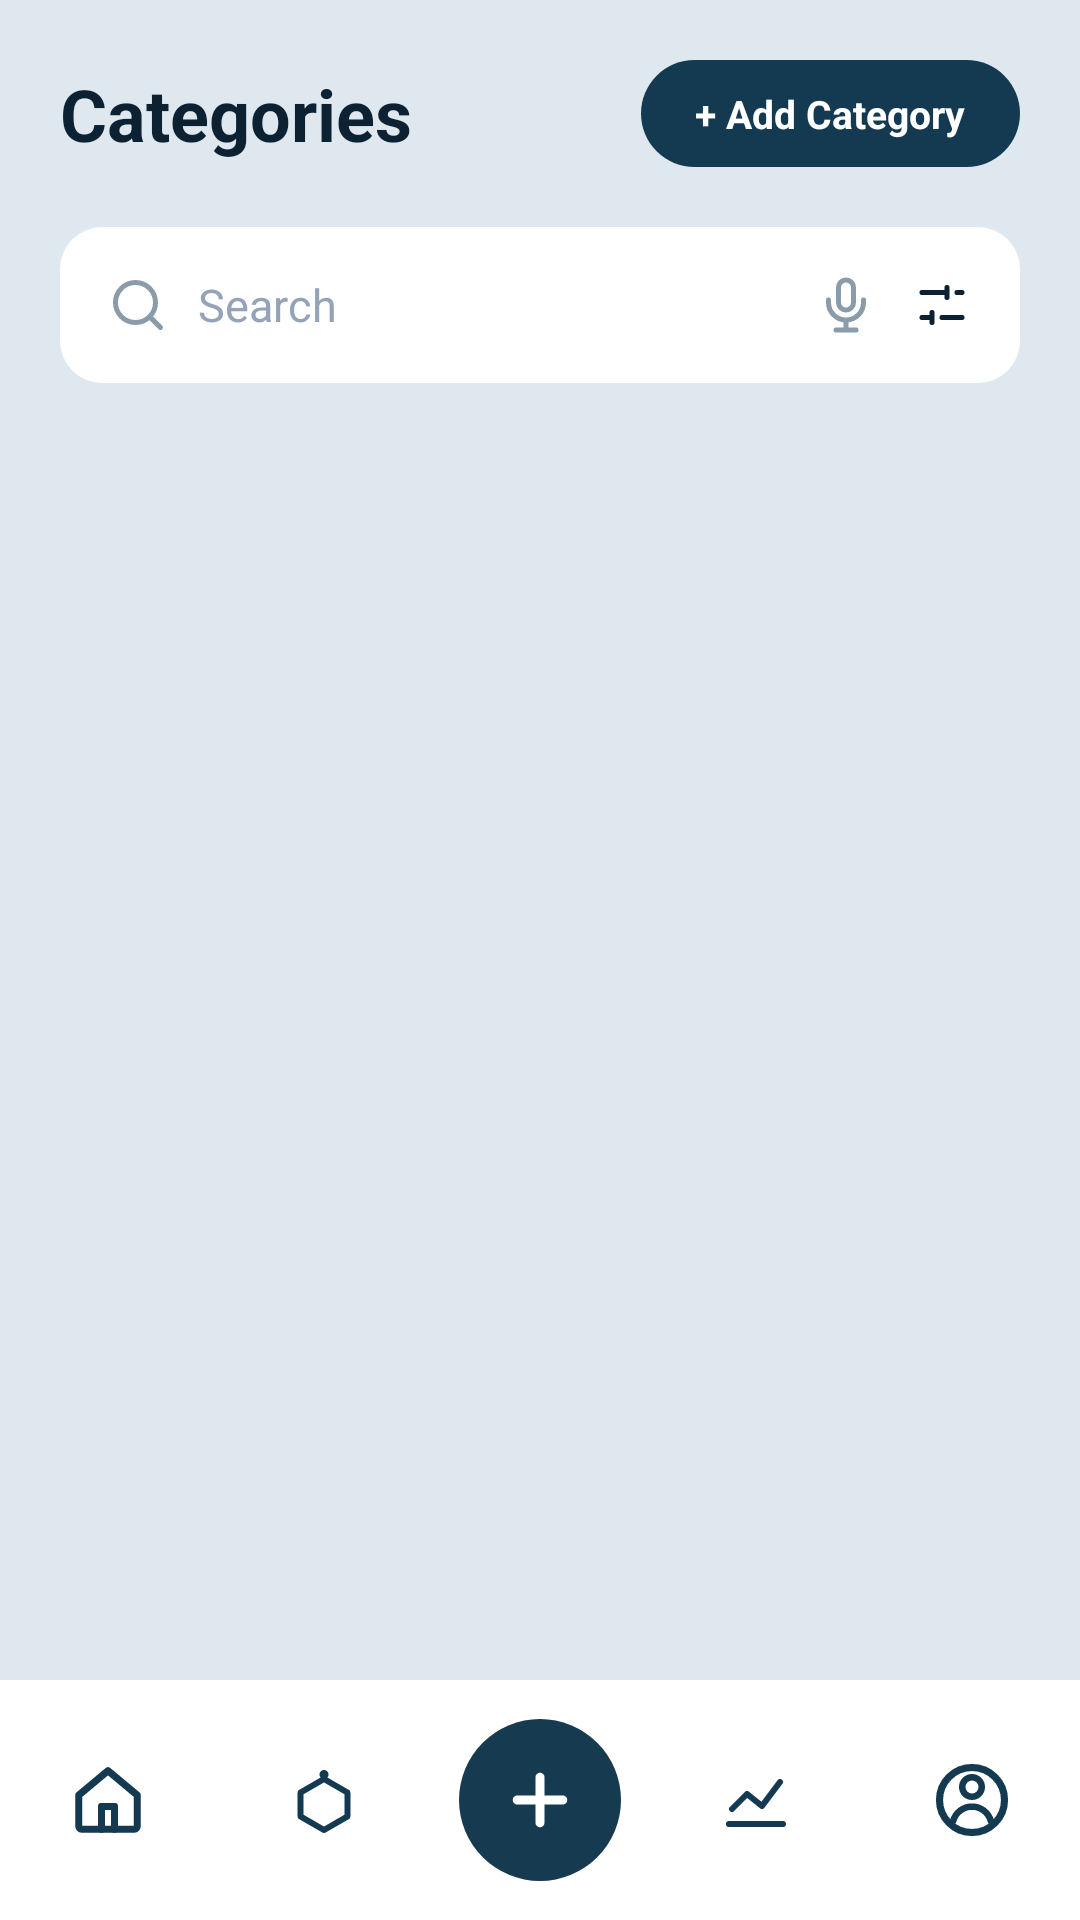

Where to tap for icons on this 1080×1920 app screen, as (x,y):
Filter: (942,305)
graph: (756,1803)
hexagon: (324,1801)
home: (108,1800)
plus: (540,1800)
profile: (972,1800)
